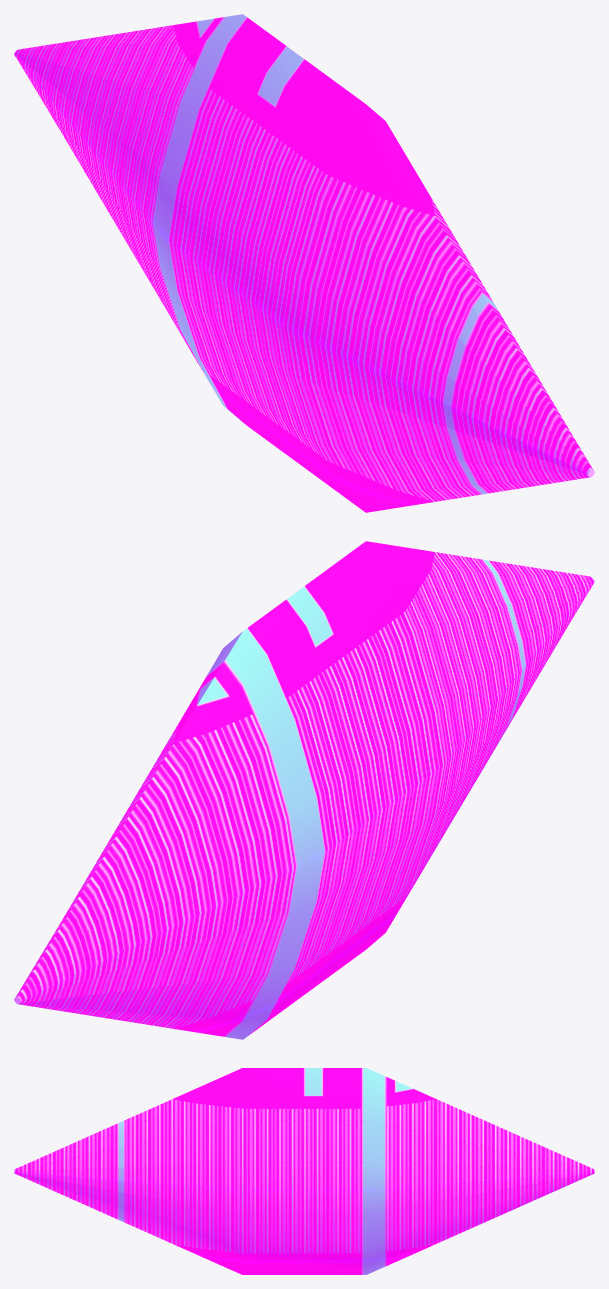
File: POD_L.glb
3 renders of one model, top to bottom at view 1: azimuth 30°, elevation 25°; view 2: azimuth 150°, elevation 25°; view 3: azimuth 270°, elevation 25°, orthographic. The views are drawn at different scales.
Visible parts, largest first — view 1: POD_L_02; view 2: POD_L_02; view 3: POD_L_02.
Boxes of the visible parts, <box> form: POD_L_02: <box>14,14,594,512</box>; POD_L_02: <box>14,541,594,1039</box>; POD_L_02: <box>14,1068,594,1274</box>.
Bounding box in the file's own units: 0.4399 × 1.1 × 2.8.
1 material, 1 textured.
